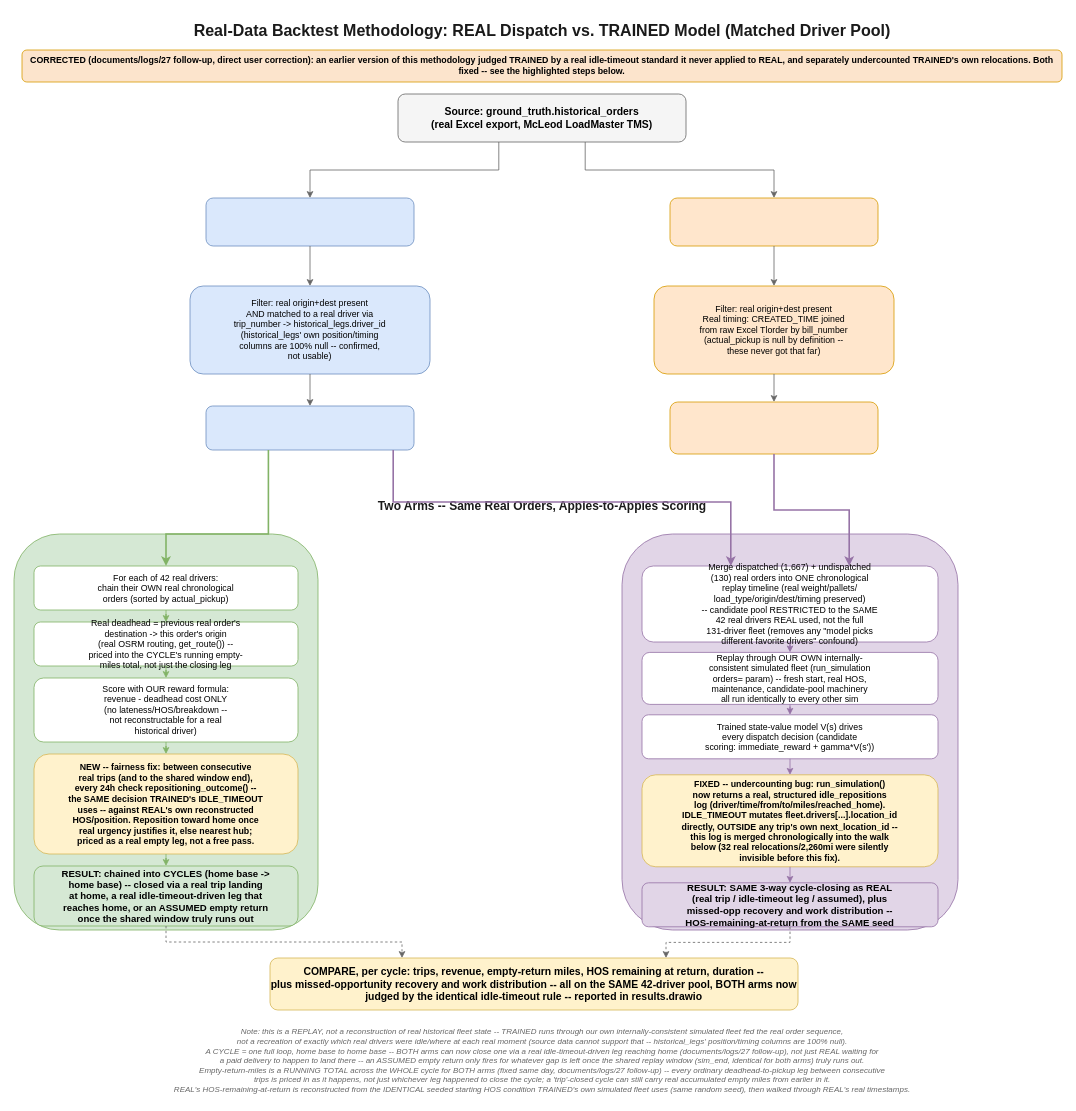
Image size: 1076x1111. Some labels were removed from this diagram. The box of each missing label's shape, as (x1, y1, x2, y2) in pixels:
1,667 usable orders across 42 real drivers: (205, 405, 414, 450)
1,929 orders was_dispatched = true: (205, 197, 414, 246)
130 usable orders (48 real yard-shuttle moves, 82 real freight opportunities): (669, 401, 878, 454)
141 orders was_dispatched = false: (669, 197, 878, 246)
REAL ARM: (13, 533, 318, 930)
TRAINED ARM: (621, 533, 958, 930)
